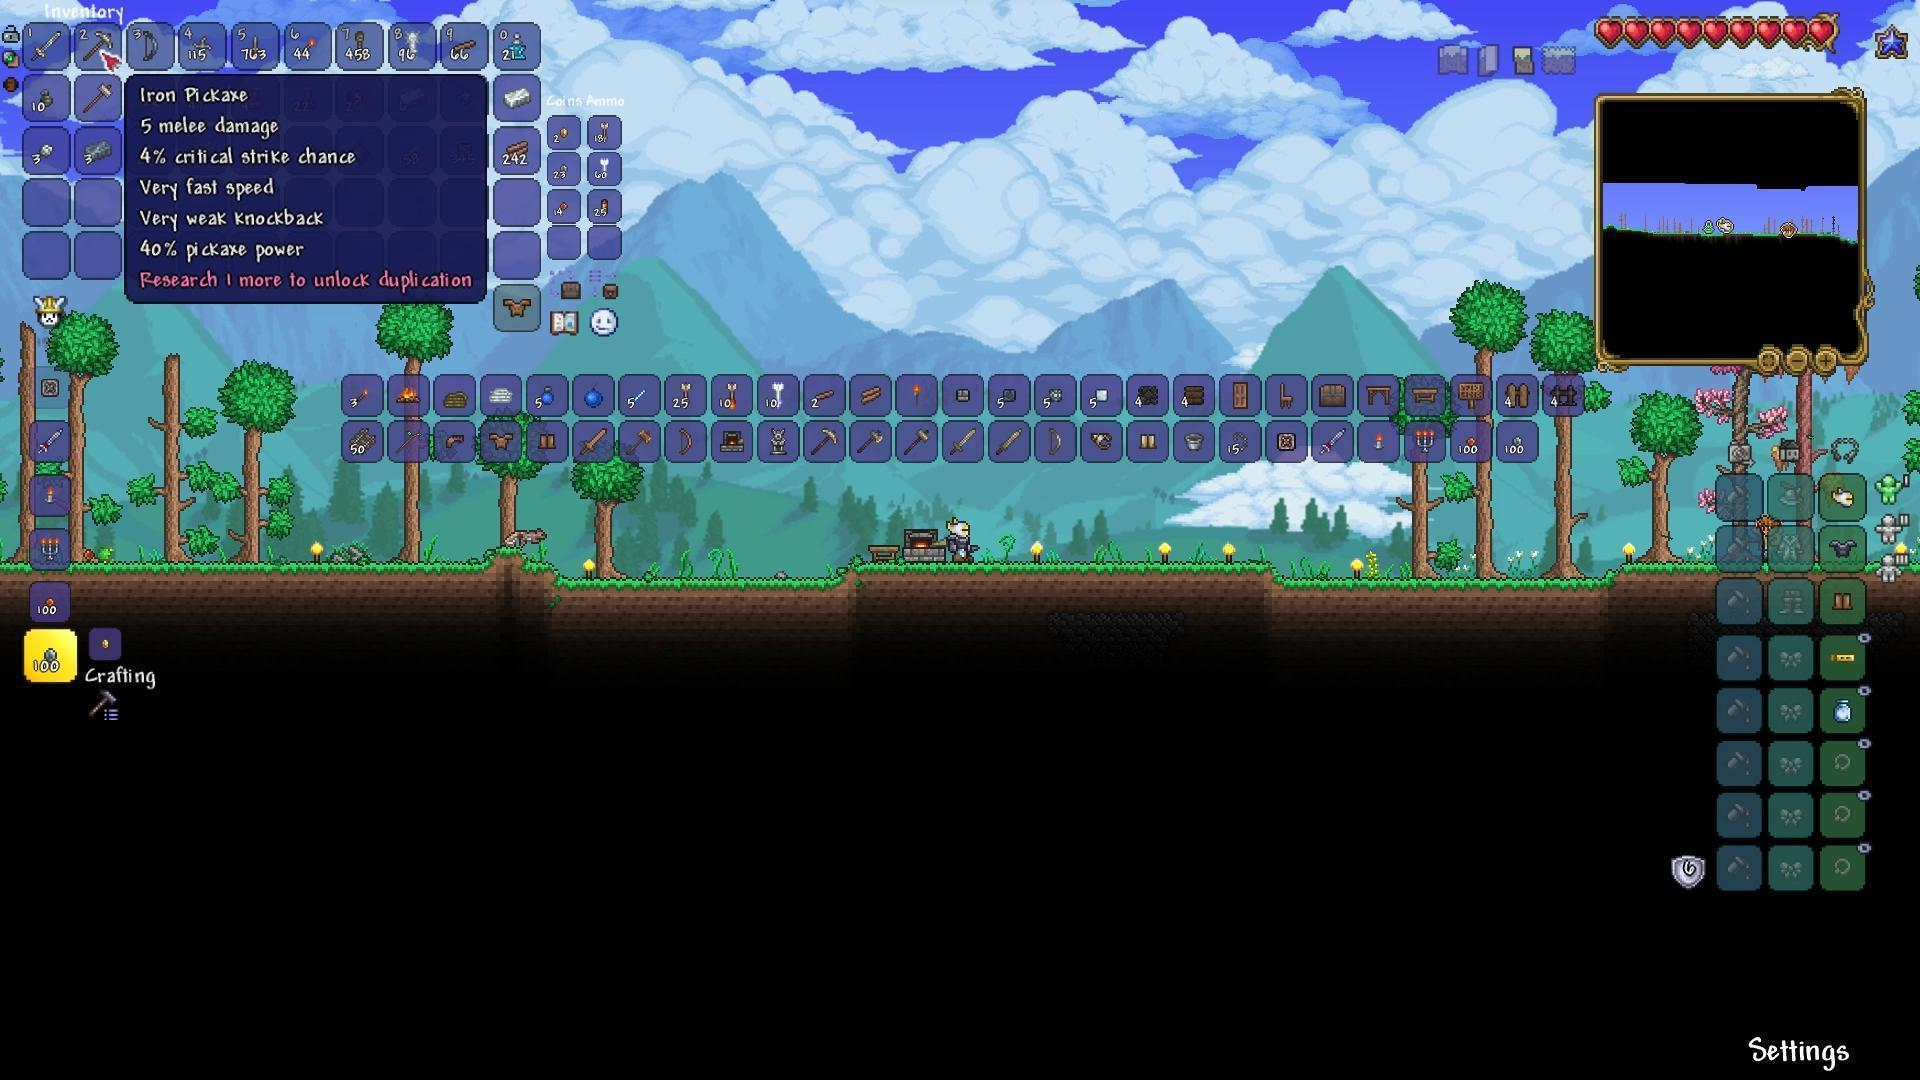arrow: (680, 378, 695, 409), (596, 117, 609, 142), (728, 381, 740, 409), (774, 377, 785, 406), (599, 153, 609, 181)
axe: (856, 429, 886, 455)
bow: (141, 26, 158, 65), (1046, 425, 1064, 459), (676, 423, 695, 456)
breastplate: (1826, 539, 1859, 560), (489, 429, 513, 450)
furnace: (899, 525, 949, 559)
grenade: (38, 86, 53, 111)
heart: (1648, 17, 1677, 50), (1623, 16, 1651, 50), (1594, 17, 1625, 47), (1702, 17, 1727, 47), (1730, 17, 1754, 47), (1679, 18, 1702, 47)
helmet: (1089, 429, 1114, 452), (443, 430, 467, 450)
knife: (251, 32, 261, 57)
legs: (538, 429, 559, 452)
pickaxe: (82, 29, 115, 61), (811, 425, 840, 458)
recallP: (509, 30, 527, 59)
rope: (404, 29, 421, 57), (353, 29, 367, 58)
shuriken: (193, 36, 214, 58)
sword: (29, 32, 62, 65), (994, 427, 1026, 459), (578, 429, 611, 459), (1317, 427, 1346, 458), (949, 429, 976, 458), (36, 429, 61, 458)
wood: (504, 137, 531, 158), (858, 384, 882, 406)
workbench: (864, 538, 899, 563), (1412, 386, 1440, 405)
